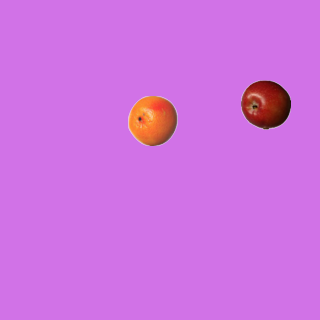Apple Braeburn: (240, 79, 290, 129)
Grapefruit Pink: (127, 95, 177, 145)
